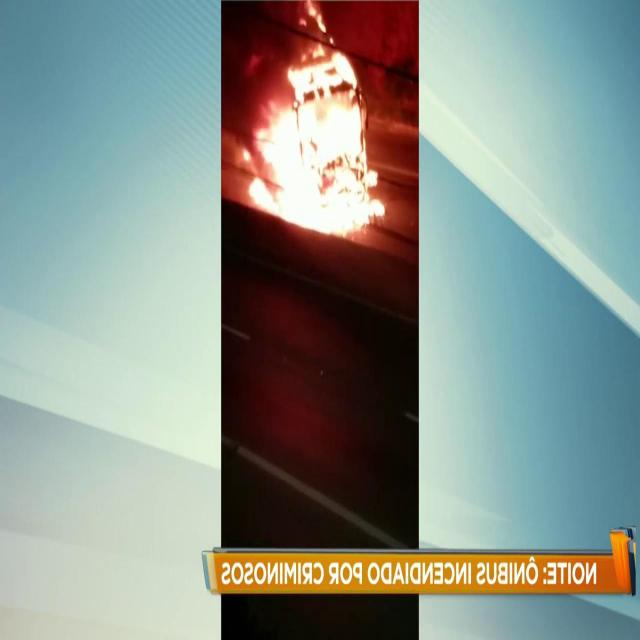fire: (232, 25, 392, 237)
